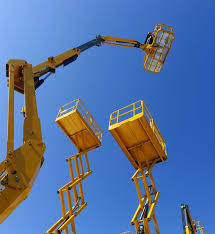Scissor Lift: (45, 97, 106, 234), (108, 99, 169, 234)
